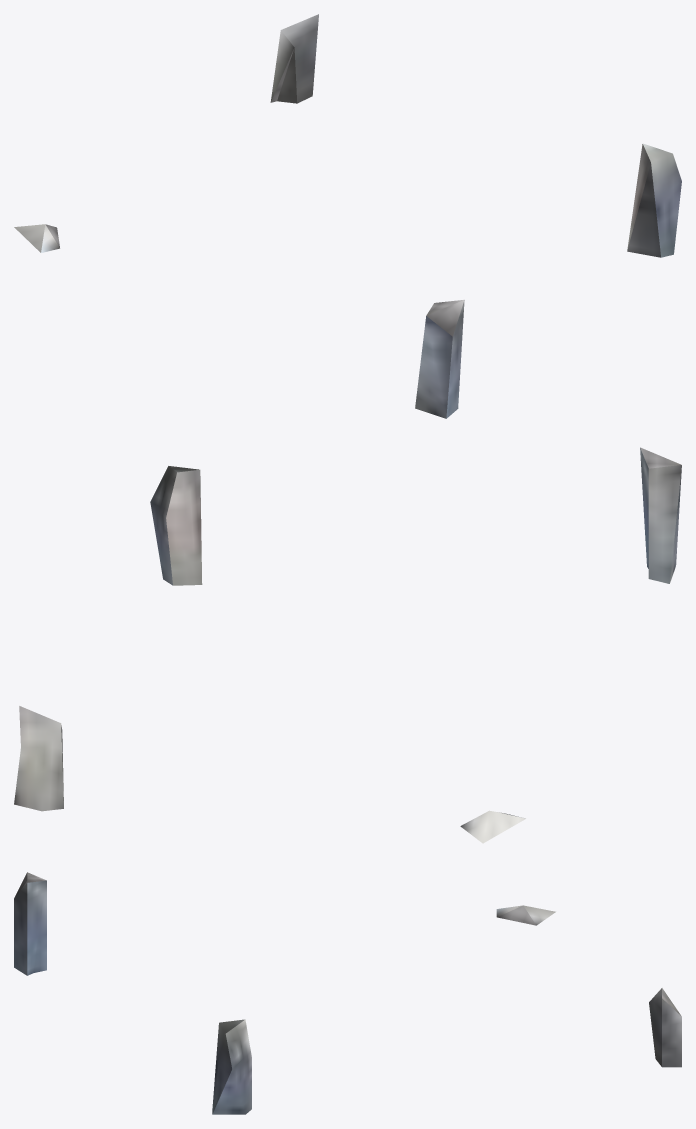
The picture shows the model from 3 angles, top to bottom: view 1: azimuth 30°, elevation 25°; view 2: azimuth 150°, elevation 25°; view 3: azimuth 270°, elevation 25°; orthographic projection. The views are drawn at different scales.
Visible parts, largest first — view 1: 30436272704361636737_0; view 2: 30436272704361636737_0; view 3: 30436272704361636737_0.
Boxes of the visible parts, left/top/right/bottom form: 30436272704361636737_0: left=14, top=14, right=681, bottom=418; 30436272704361636737_0: left=14, top=447, right=681, bottom=843; 30436272704361636737_0: left=14, top=872, right=681, bottom=1114.
Size of the model in its own units: 11.81 by 2.47 by 15.58.
1 material, 1 textured.
